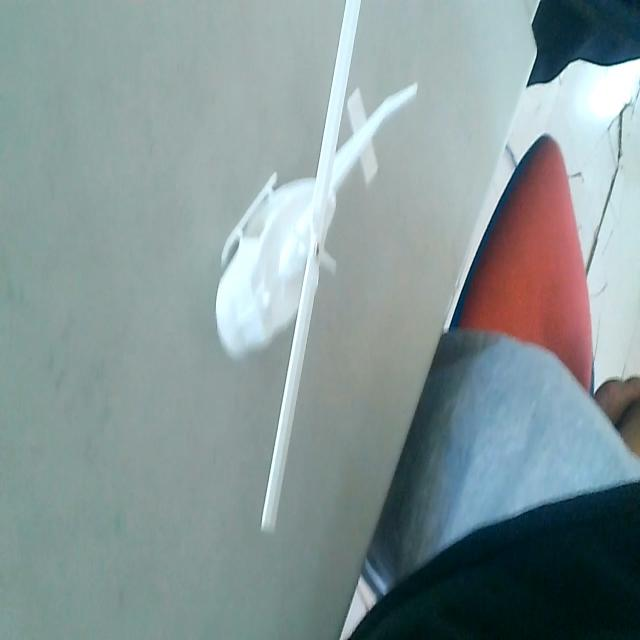Helicopter: (215, 0, 420, 543)
